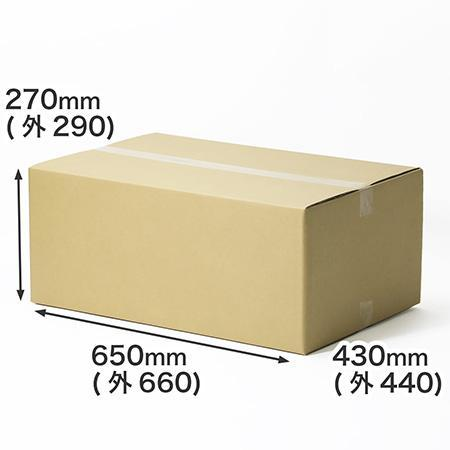box: (22, 131, 433, 357)
